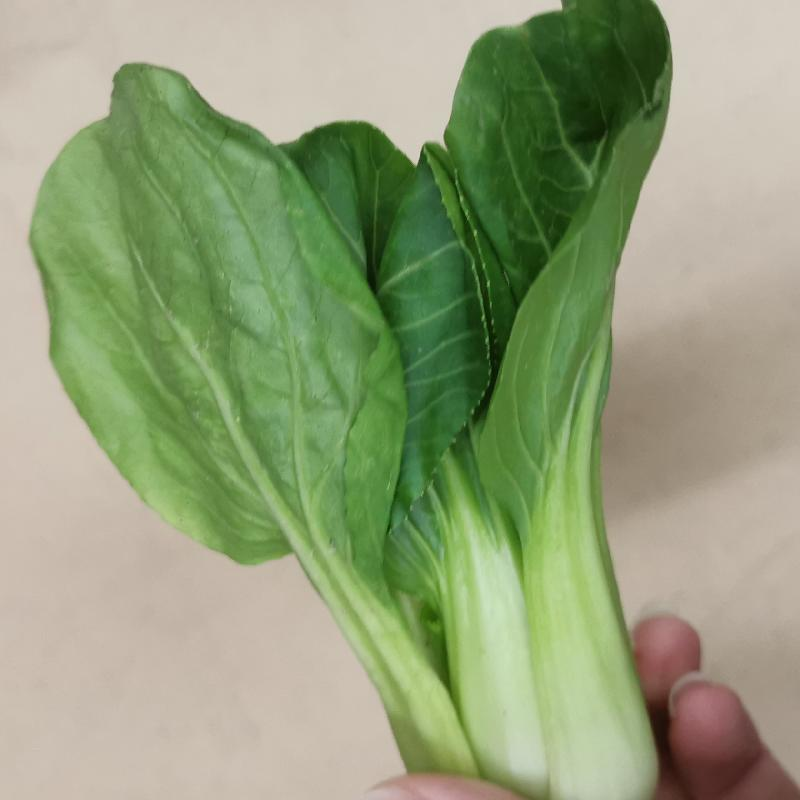green vegatable: (32, 1, 661, 779)
